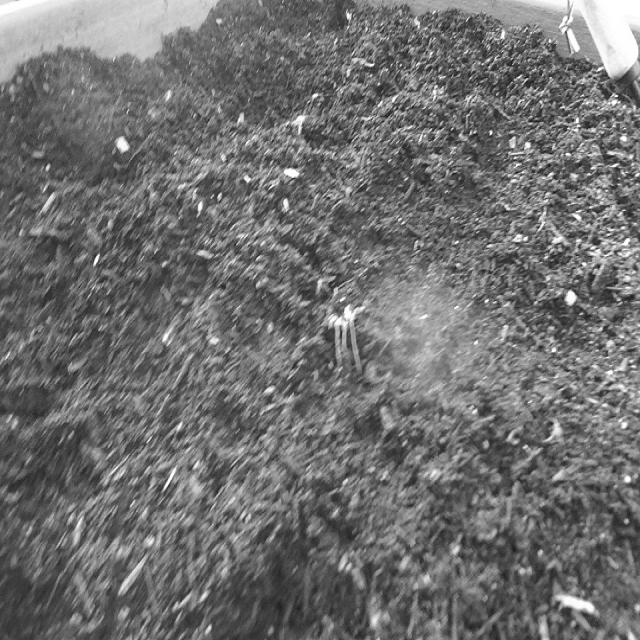Unhealthy: (321, 282, 376, 393)
